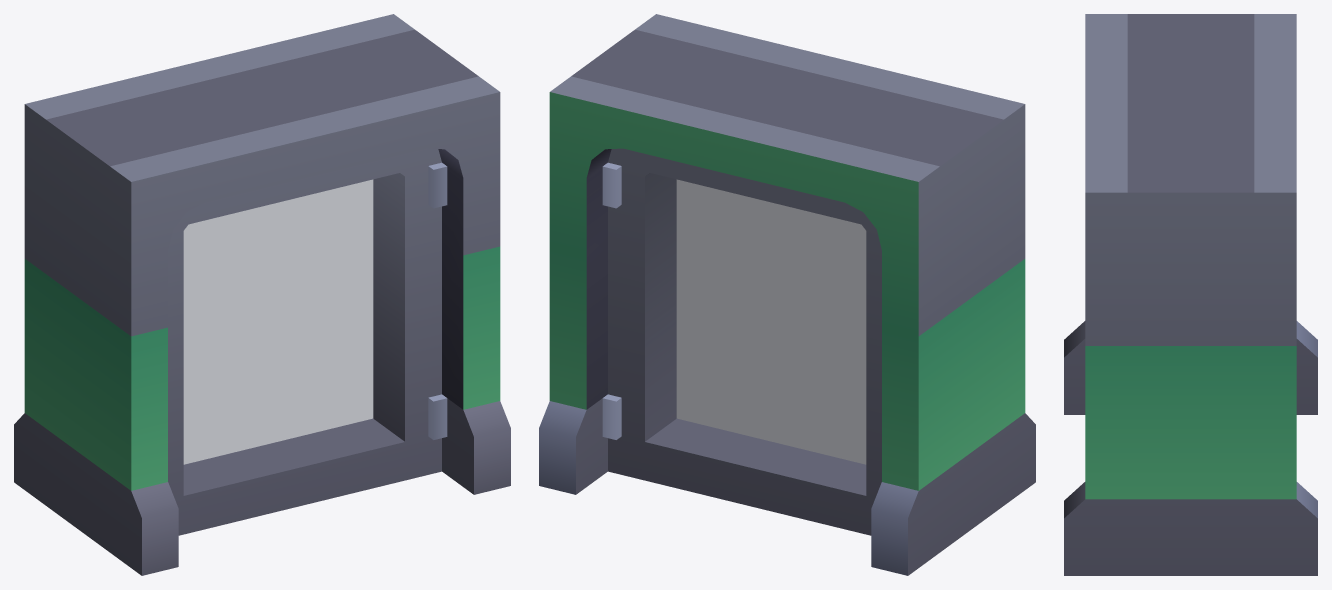
File: wall-window.fbx
3 views of the same model, side by side, from view 1: azimuth 30°, elevation 25°; view 2: azimuth 150°, elevation 25°; view 3: azimuth 270°, elevation 25° (orthographic).
Visible parts, largest first — view 1: wall-window, (%ignore), Group; view 2: wall-window, (%ignore), Group; view 3: wall-window.
Part boxes in pixels (box(x1,y1,x2,y2)): wall-window: box(14, 14, 510, 575); (%ignore): box(183, 179, 373, 464); Group: box(168, 148, 441, 535); wall-window: box(539, 14, 1035, 575); (%ignore): box(676, 179, 866, 464); Group: box(608, 148, 881, 535); wall-window: box(1064, 14, 1317, 575).
Size of the model in its own units: 100 by 100 by 60.
2 materials, 1 textured.
